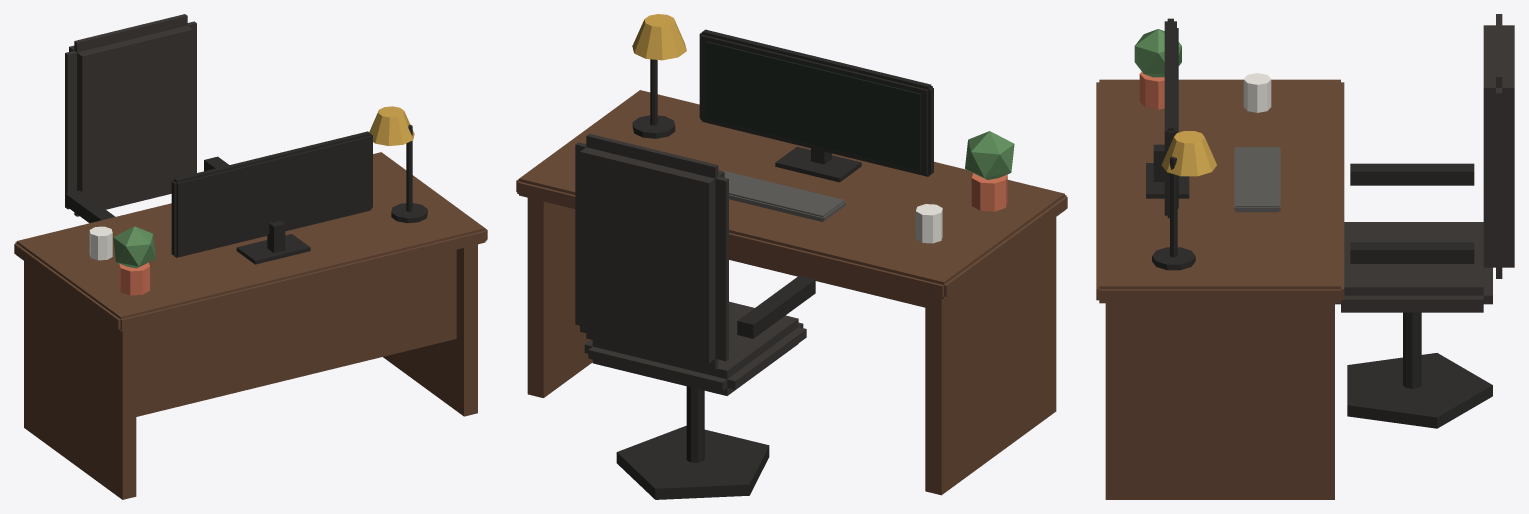
Rendered from desk_boss.glb.
The picture shows the model from 3 angles, left to right: view 1: azimuth 30°, elevation 25°; view 2: azimuth 150°, elevation 25°; view 3: azimuth 270°, elevation 25°; orthographic projection. The views are drawn at different scales.
Visible parts, largest first — view 1: Modesty, Top.001, Back.001, SideL, MonitorFrame, SideR, PlantS, LampShade, StandBase, ArmrestL, PotS, Mug.001 (+3 smaller); view 2: Top.001, Back.001, SideL, Screen.001, SideR, ChairBase.001, Seat.001, MonitorFrame, Keyboard, Modesty, ArmrestL, LampShade (+6 smaller); view 3: Top.001, SideR, Seat.001, Back.001, ChairBase.001, Keyboard, ArmrestL, ArmrestR, MonitorFrame, LampShade, Post.001, PlantS (+5 smaller).
Part boxes in pixels (x1,y1,x2,y2): Modesty: [136, 249, 456, 416]; Top.001: [14, 152, 487, 331]; Back.001: [65, 14, 196, 216]; SideL: [24, 261, 136, 499]; MonitorFrame: [171, 131, 372, 257]; SideR: [383, 244, 477, 416]; PlantS: [113, 226, 155, 268]; LampShade: [369, 106, 414, 145]; StandBase: [236, 234, 310, 264]; ArmrestL: [65, 190, 115, 223]; PotS: [119, 262, 149, 295]; Mug.001: [89, 226, 112, 260]; Top.001: [516, 90, 1067, 298]; Back.001: [575, 133, 728, 369]; SideL: [925, 217, 1056, 495]; Screen.001: [705, 41, 921, 170]; SideR: [527, 197, 592, 397]; ChairBase.001: [616, 425, 769, 499]; Seat.001: [584, 301, 806, 395]; MonitorFrame: [699, 29, 933, 176]; Keyboard: [723, 170, 845, 221]; Modesty: [729, 247, 925, 307]; ArmrestL: [737, 275, 815, 338]; LampShade: [632, 14, 686, 60]; Top.001: [1096, 79, 1344, 303]; SideR: [1105, 303, 1334, 499]; Seat.001: [1335, 222, 1492, 312]; Back.001: [1483, 14, 1514, 278]; ChairBase.001: [1347, 353, 1492, 428]; Keyboard: [1234, 147, 1280, 212]; ArmrestL: [1350, 163, 1474, 185]; ArmrestR: [1350, 242, 1474, 263]; MonitorFrame: [1164, 18, 1176, 218]; LampShade: [1161, 131, 1216, 176]; Post.001: [1403, 312, 1421, 388]; PlantS: [1134, 29, 1181, 77].
Size of the model in its own units: 1.6 by 1.26 by 1.35.
